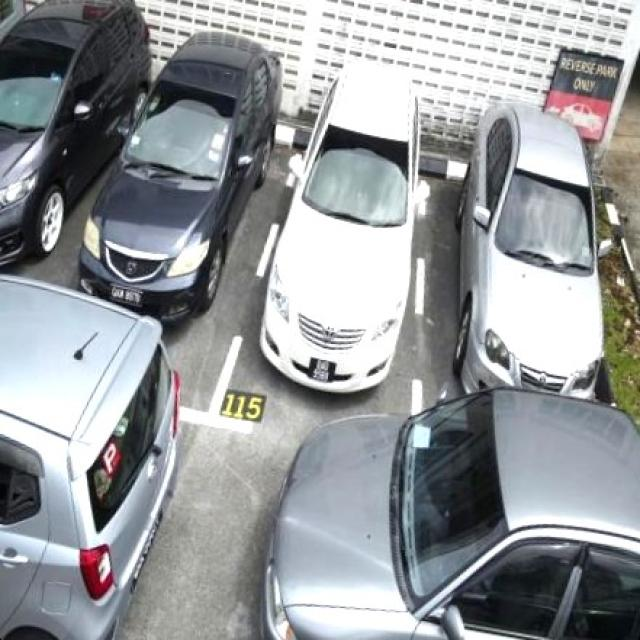Legalparking: (0, 0, 280, 321), (260, 61, 428, 390), (454, 104, 602, 396)
illegalparking: (268, 389, 639, 639), (0, 277, 179, 639)
